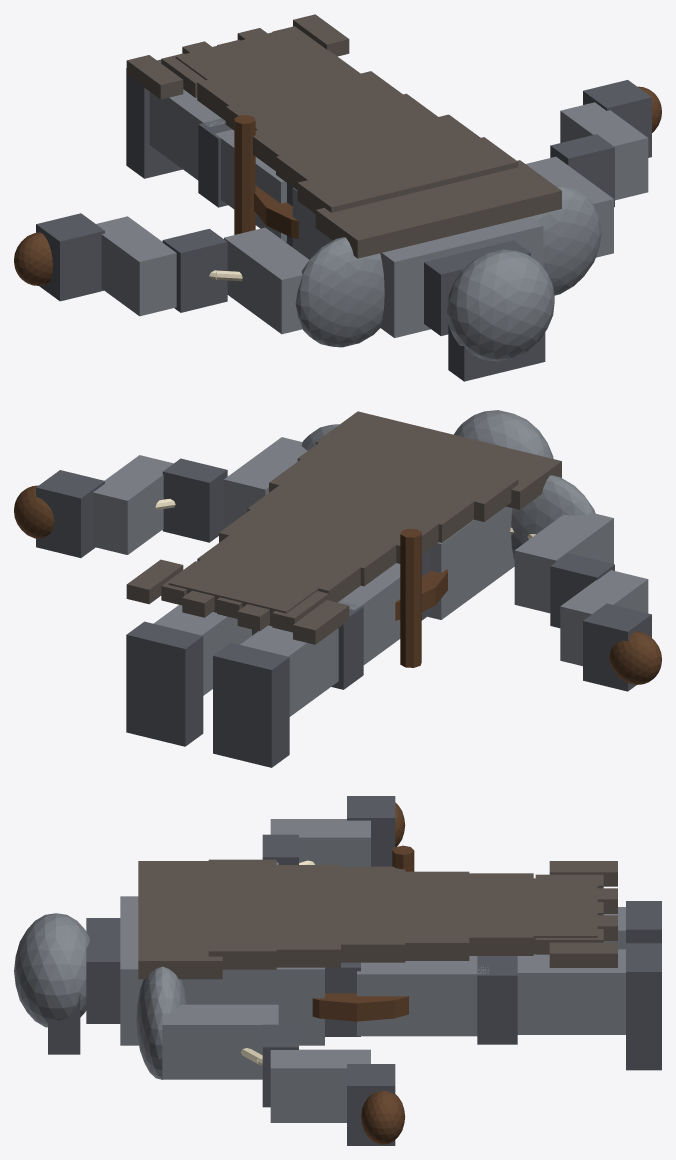
File: medieval_knight_armature.glb
3 views of the same model, one above another, from view 1: azimuth 30°, elevation 25°; view 2: azimuth 150°, elevation 25°; view 3: azimuth 270°, elevation 25° (orthographic).
Parts seen in each view (by area): view 1: Cloak_Shoulder, Helmet, Cloak_Panel_0, Torso_Cuirass, Pauldron_L, UpperArmArmor_L, ForearmArmor_L, Cloak_Panel_1, Cloak_Panel_2, Cloak_Panel_4, Cloak_Panel_3, Pauldron_R (+19 smaller); view 2: Sabatons_R, Sabatons_L, Cloak_Panel_0, Cloak_Shoulder, Cloak_Panel_1, ForearmArmor_R, Cloak_Panel_3, Torso_Cuirass, UpperArmArmor_L, Cloak_Panel_2, Cloak_Panel_4, Elbow_R (+21 smaller); view 3: Torso_Cuirass, Cloak_Shoulder, ThighArmor_R, Greave_R, UpperArmArmor_R, Cloak_Panel_0, Helmet, Cloak_Panel_1, Cloak_Panel_2, ForearmArmor_R, Cloak_Panel_3, Cloak_Panel_4 (+19 smaller).
Part boxes in pixels (x1,y1,x2,y2): Cloak_Shoulder: [315, 160, 561, 258]; Helmet: [447, 249, 554, 361]; Cloak_Panel_0: [297, 137, 518, 213]; Torso_Cuirass: [292, 187, 543, 337]; Pauldron_L: [295, 237, 384, 347]; UpperArmArmor_L: [224, 227, 309, 334]; ForearmArmor_L: [96, 216, 176, 316]; Cloak_Panel_1: [276, 114, 480, 190]; Cloak_Panel_2: [253, 93, 437, 170]; Cloak_Panel_4: [197, 50, 360, 120]; Cloak_Panel_3: [225, 71, 402, 130]; Pauldron_R: [531, 186, 601, 295]; Sabatons_R: [126, 621, 203, 746]; Sabatons_L: [213, 642, 289, 767]; Cloak_Panel_0: [297, 433, 518, 521]; Cloak_Shoulder: [315, 411, 561, 509]; Cloak_Panel_1: [269, 458, 473, 542]; ForearmArmor_R: [93, 455, 173, 554]; Cloak_Panel_3: [219, 509, 397, 586]; Torso_Cuirass: [427, 506, 514, 619]; UpperArmArmor_L: [514, 513, 613, 613]; Cloak_Panel_2: [247, 484, 438, 563]; Cloak_Panel_4: [197, 535, 360, 602]; Elbow_R: [162, 458, 227, 542]; Torso_Cuirass: [120, 896, 324, 1045]; Cloak_Shoulder: [138, 861, 222, 979]; ThighArmor_R: [357, 956, 489, 1036]; Greave_R: [517, 949, 625, 1034]; UpperArmArmor_R: [162, 1004, 278, 1079]; Cloak_Panel_0: [208, 859, 276, 969]; Helmet: [14, 913, 89, 1027]; Cloak_Panel_1: [272, 865, 340, 967]; Cloak_Panel_2: [337, 866, 405, 962]; ForearmArmor_R: [270, 1049, 370, 1122]; Cloak_Panel_3: [402, 871, 469, 960]; Cloak_Panel_4: [465, 873, 533, 955].
Bounding box in the file's own units: 3.72 × 0.79 × 3.23.
